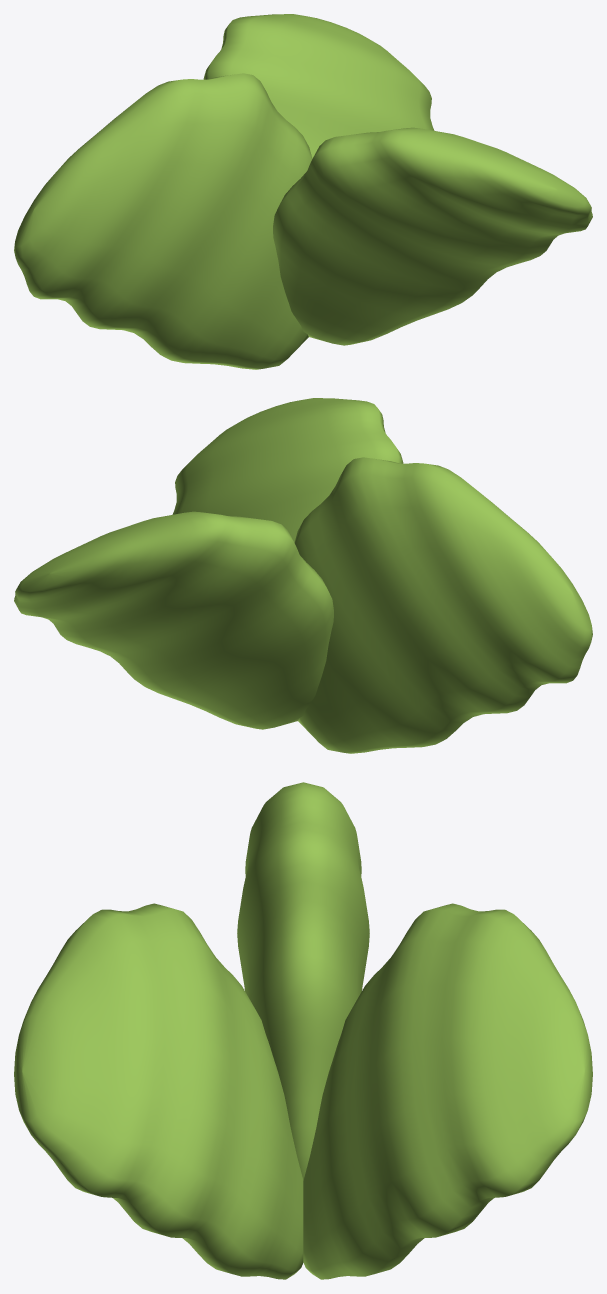
The model's file is crop_6_stage_1.fbx.
The picture shows the model from 3 angles, top to bottom: view 1: azimuth 30°, elevation 25°; view 2: azimuth 150°, elevation 25°; view 3: azimuth 270°, elevation 25°; orthographic projection. The views are drawn at different scales.
Parts seen in each view (by area): view 1: crop_6_stage_1; view 2: crop_6_stage_1; view 3: crop_6_stage_1.
Boxes of the visible parts, x1=… form: crop_6_stage_1: x1=14, y1=14, x2=592, y2=369; crop_6_stage_1: x1=14, y1=398, x2=592, y2=753; crop_6_stage_1: x1=14, y1=782, x2=592, y2=1279.
Bounding box in the file's own units: 0.3 × 0.18 × 0.24.
Materials: 1 (1 with a texture image).
